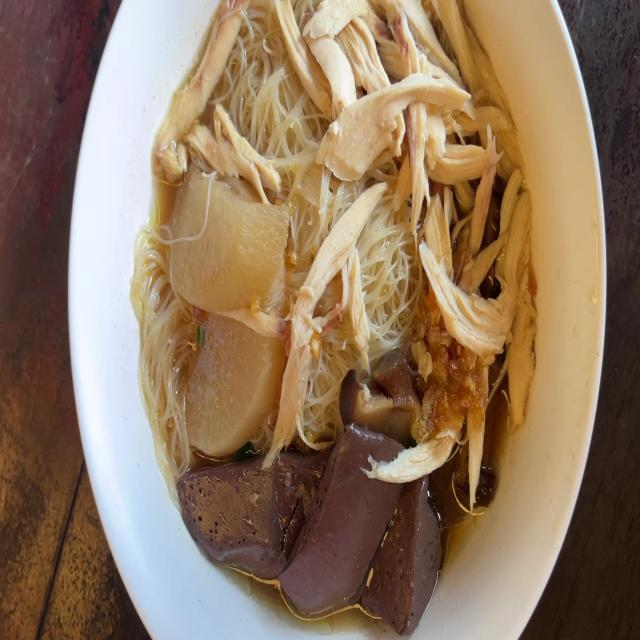boiled_chicken_blood_jelly: (294, 438, 399, 613), (175, 468, 305, 572), (394, 476, 433, 628)
chicken_shredded: (302, 0, 536, 421), (156, 0, 259, 170), (200, 113, 276, 201), (383, 420, 470, 471)
daikon_radish: (176, 175, 292, 312), (184, 312, 276, 438)
noodle: (175, 0, 520, 640)
